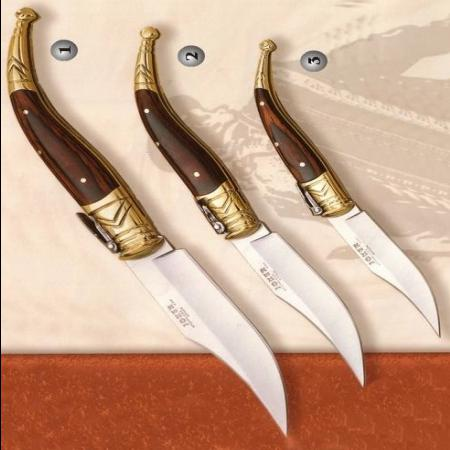long weapon: (134, 255, 288, 443), (247, 240, 367, 391), (362, 215, 442, 339)
